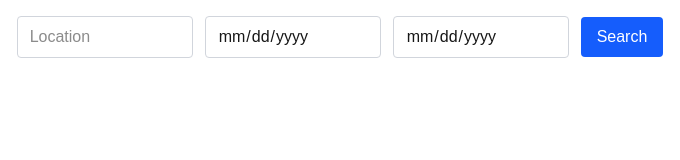
Test case: SearchForm › shows error message on failed fetch
In the field labelled "Location": (105, 37) [17,16,193,58], type "Lisbon"
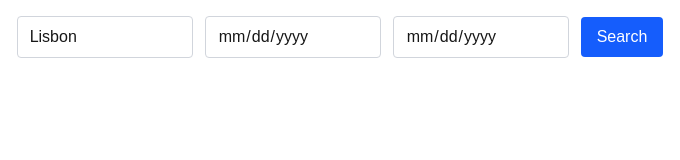
In the date field named "start date": (293, 37) [205,16,381,58], type "2025-05-08"
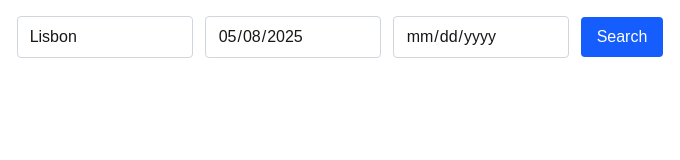
In the date field named "end date": (481, 37) [393,16,569,58], type "2025-05-08"
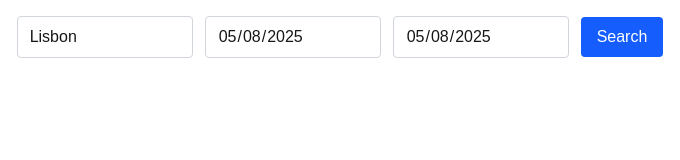
Click the button "Search": (622, 37) [581,17,663,57]
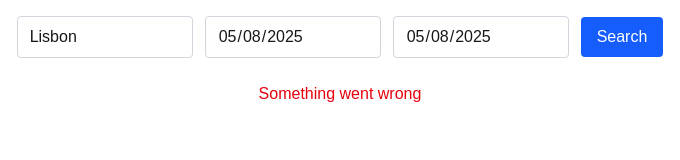
Check: the text "Something went wrong" is shown, box [259,85,421,102]
